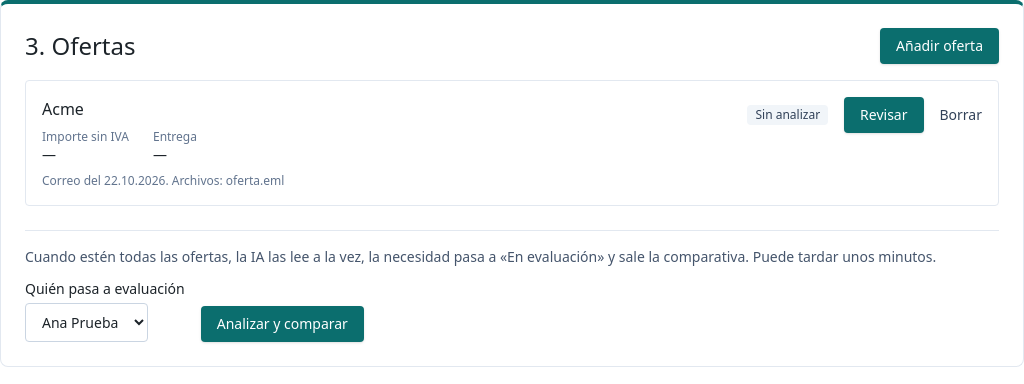
SeccionOfertas › mientras se analiza no se puede borrar ni cambiar quién
Click the button "Analizar y comparar". click: [282, 324]
box: [201, 306, 364, 342]
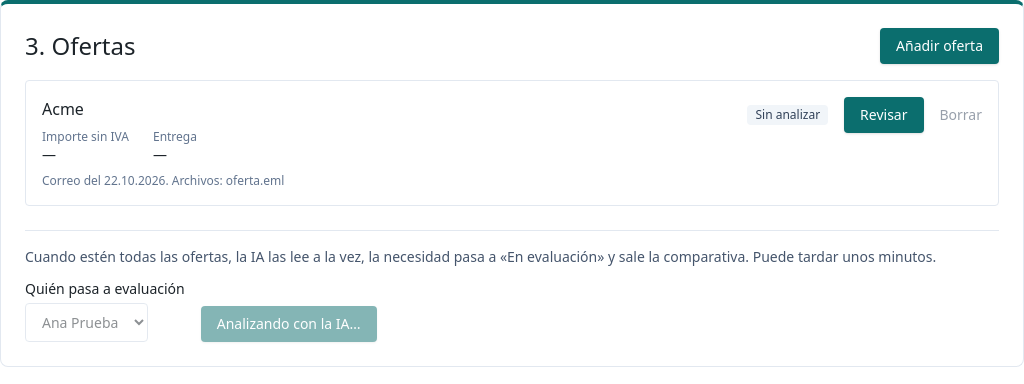
Expected: the button "Analizando con la IA…" is disabled, [201, 306, 376, 342]
Expected: the button with aria-label "Borrar la oferta de Acme" is disabled, [940, 105, 982, 125]
Expected: the dropdown labelled "Quién pasa a evaluación" is disabled, [25, 303, 148, 342]
